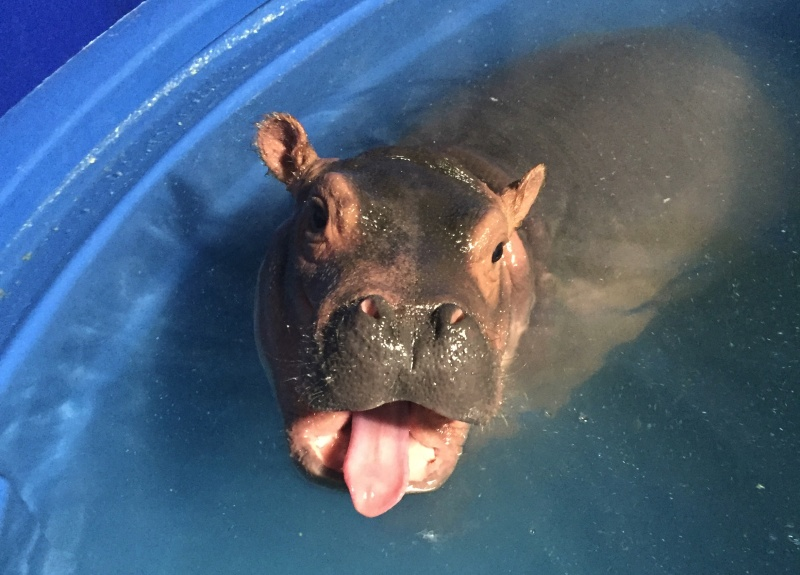hipopotamo: (214, 69, 676, 526)
